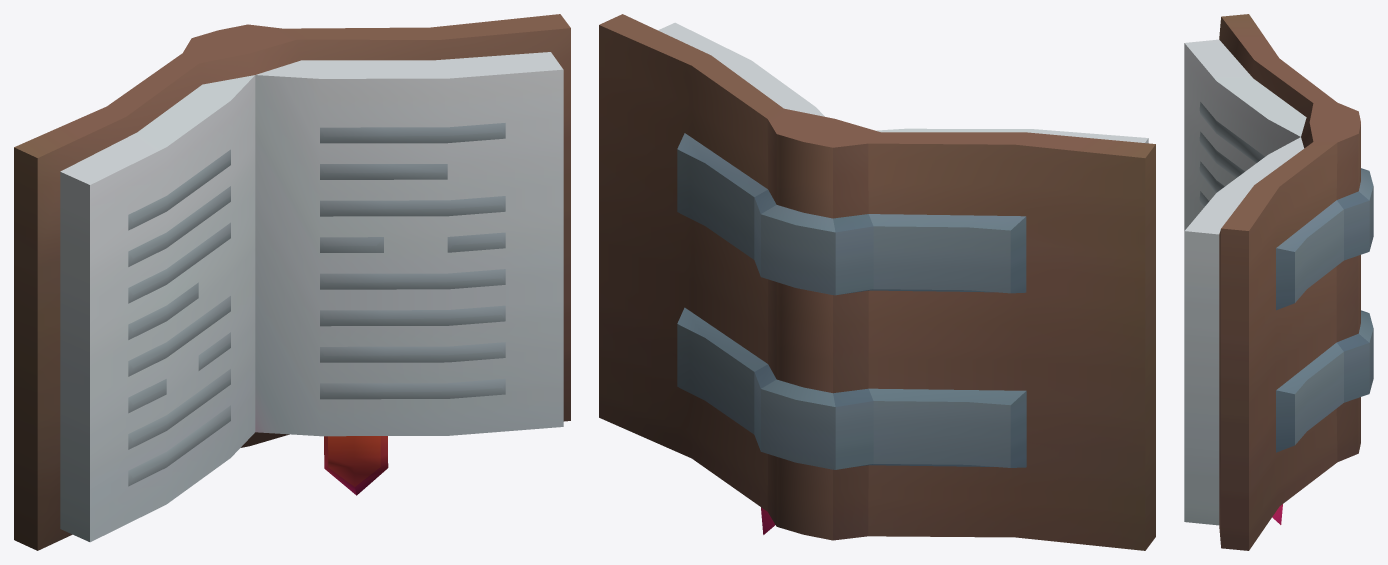
The model's file is journal_open.glb.
The picture shows the model from 3 angles, left to right: view 1: azimuth 30°, elevation 25°; view 2: azimuth 150°, elevation 25°; view 3: azimuth 270°, elevation 25°; orthographic projection. The views are drawn at different scales.
Visible parts, largest first — view 1: journal_open; view 2: journal_open; view 3: journal_open.
Boxes of the visible parts, left/top/right/bottom form: journal_open: left=14, top=14, right=570, bottom=550; journal_open: left=599, top=14, right=1155, bottom=550; journal_open: left=1184, top=14, right=1373, bottom=550.
Bounding box in the file's own units: 0.9386 × 0.7408 × 0.3454.
Materials: 1 (1 with a texture image).
